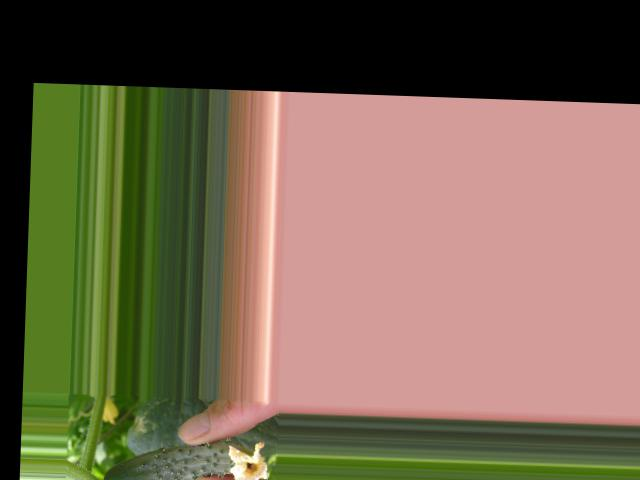cucumber: (101, 436, 268, 480)
